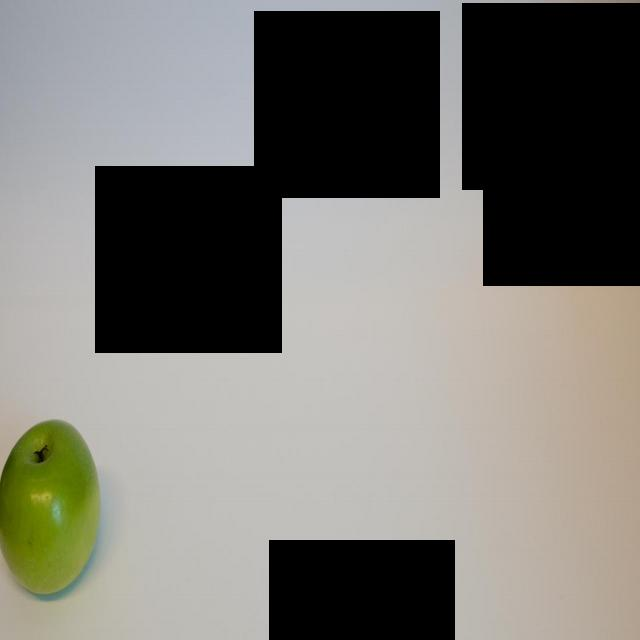apple: (0, 409, 104, 605)
